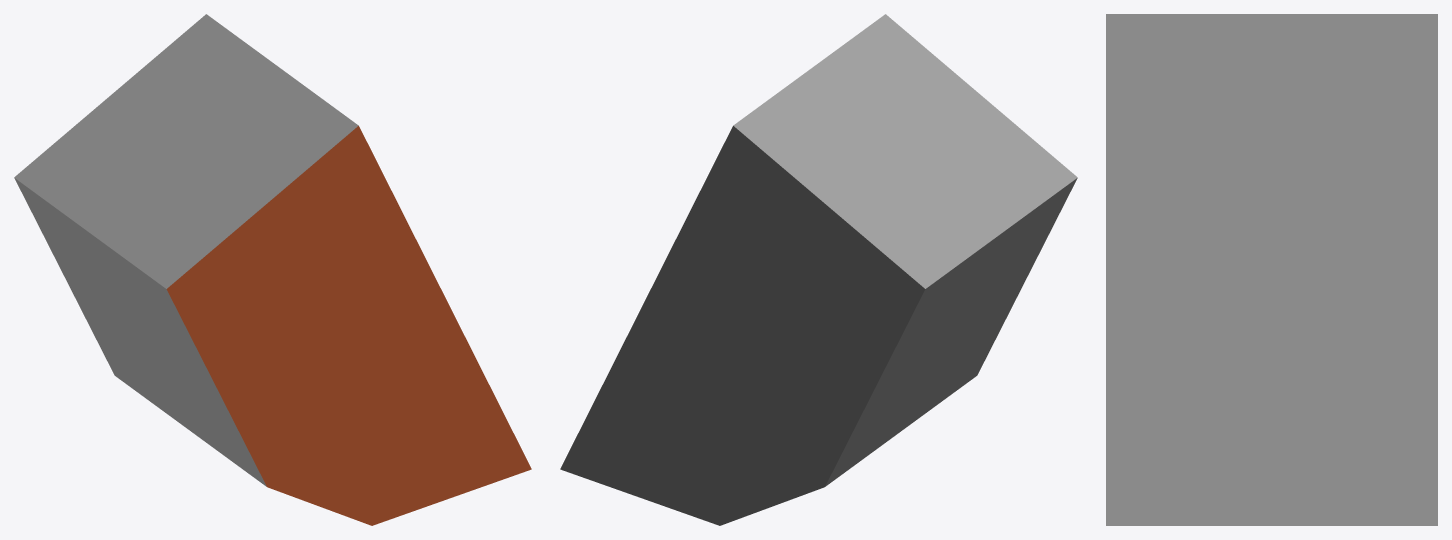
File: construction_4812_assumed_A_Casa_h6m.obj
3 views of the same model, side by side, from view 1: azimuth 30°, elevation 25°; view 2: azimuth 150°, elevation 25°; view 3: azimuth 270°, elevation 25° (orthographic). The views are drawn at different scales.
Visible parts, largest first — view 1: construction_4812_assumed_A_Casa; view 2: construction_4812_assumed_A_Casa; view 3: construction_4812_assumed_A_Casa.
Part boxes in pixels (<box>): construction_4812_assumed_A_Casa: <box>14,14,531,525</box>; construction_4812_assumed_A_Casa: <box>560,14,1077,525</box>; construction_4812_assumed_A_Casa: <box>1106,14,1437,525</box>.
Bounding box in the file's own units: 8.3 × 8.76 × 6.
